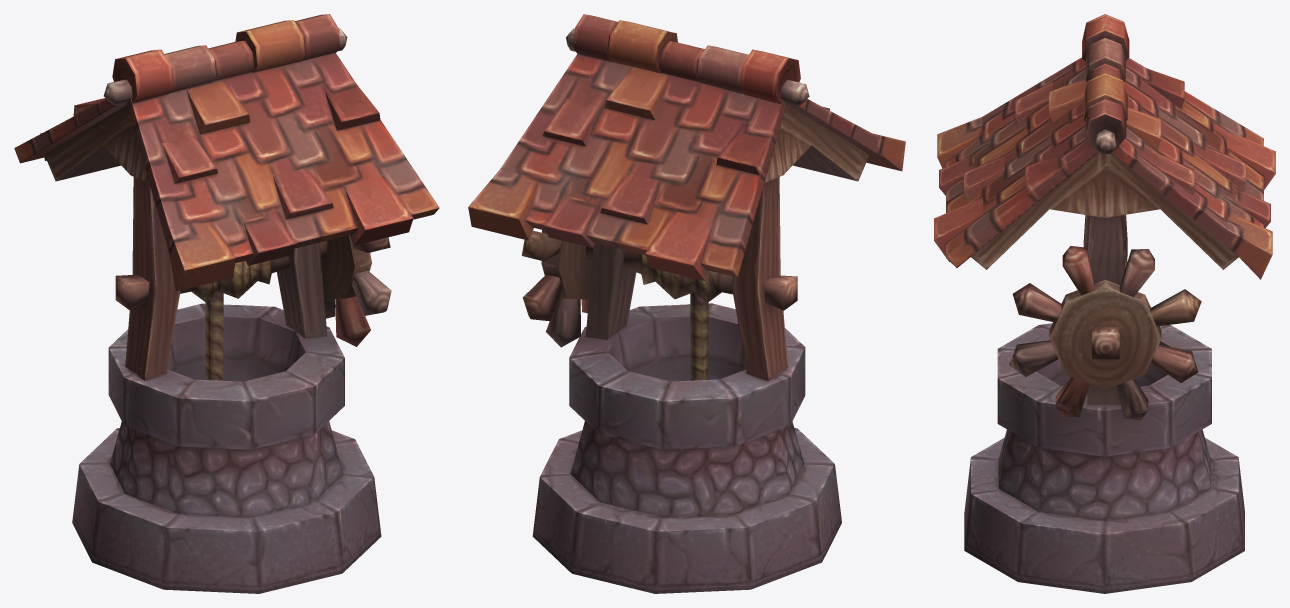
File: well_3.FBX
3 views of the same model, side by side, from view 1: azimuth 30°, elevation 25°; view 2: azimuth 150°, elevation 25°; view 3: azimuth 270°, elevation 25° (orthographic). The views are drawn at different scales.
Visible parts, largest first — view 1: well_3; view 2: well_3; view 3: well_3.
Boxes of the visible parts, x1=… form: well_3: x1=14, y1=14, x2=439, y2=593; well_3: x1=468, y1=14, x2=905, y2=593; well_3: x1=934, y1=14, x2=1275, y2=593.
Bounding box in the file's own units: 61.75 × 108 × 69.46.
1 material, 1 textured.
